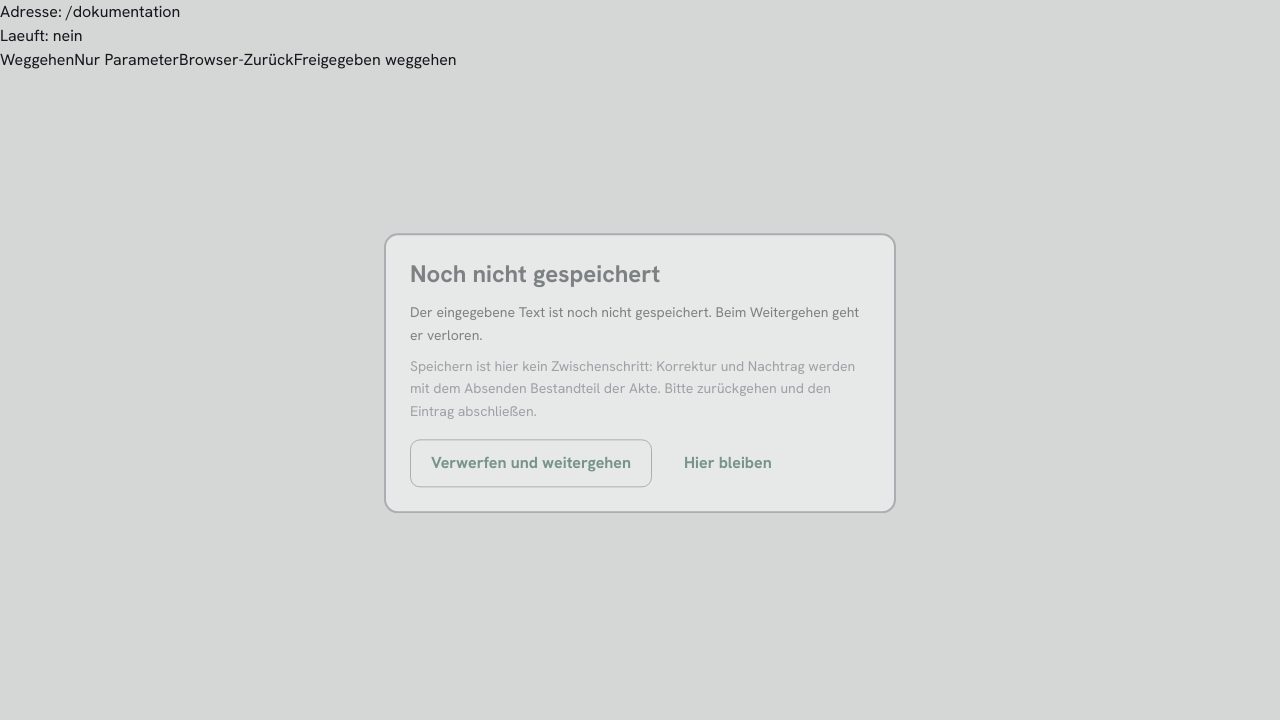
Test case: Textverlustschutz: Navigation innerhalb der Anwendung › haelt den eigenen Rueckweg nach dem Speichern nicht an
Click the link "Freigegeben weggehen".
click(375, 60)  # box [294,49,457,70]
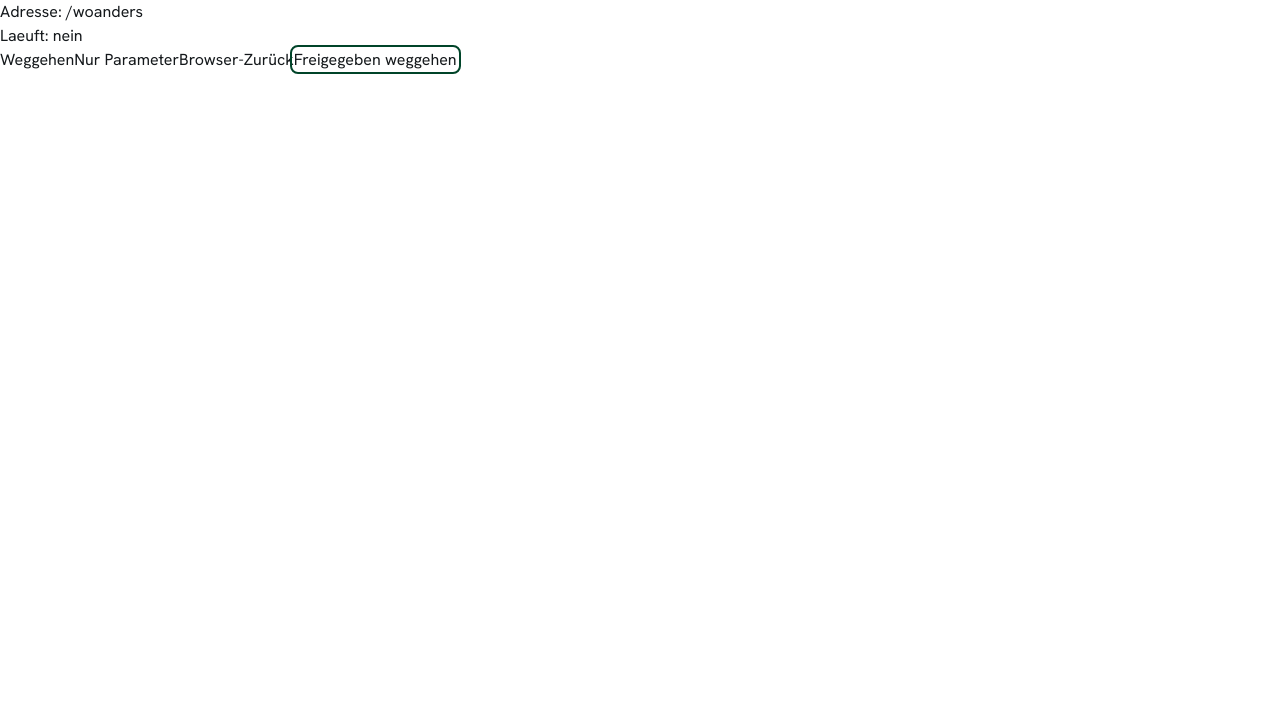
Expected: the text "Adresse: /woanders" is shown, [0,1,143,22]
